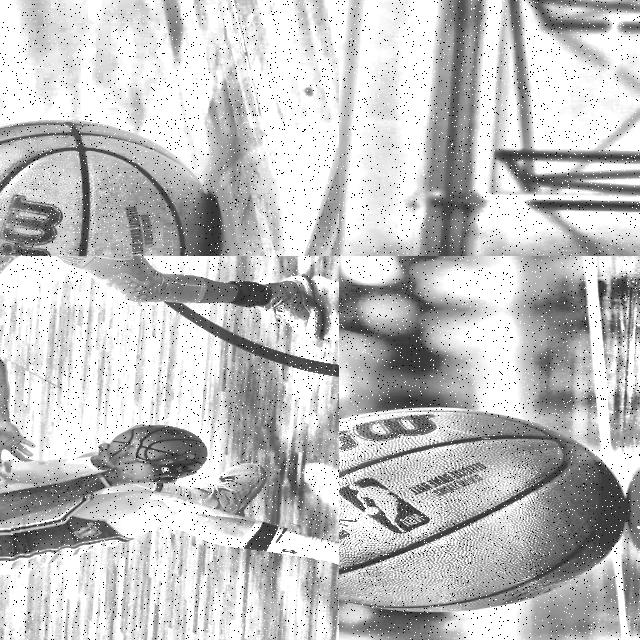Basketball: (339, 406, 626, 611), (0, 120, 209, 256), (108, 426, 206, 464)
